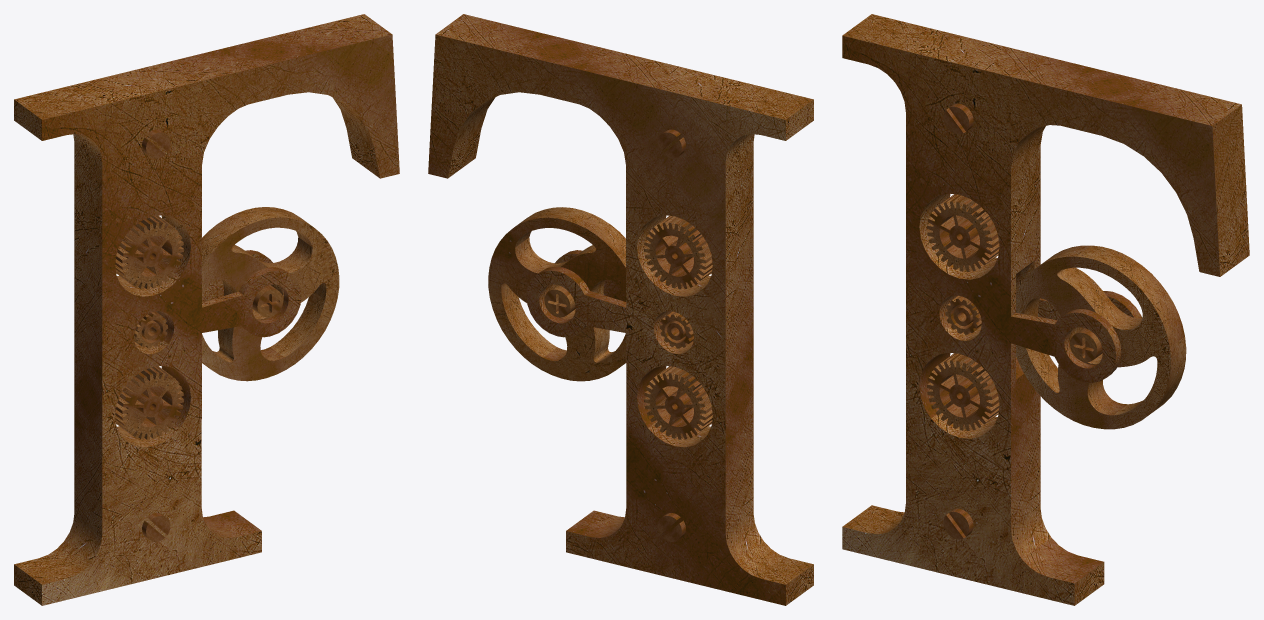
3 renders of one model, left to right at view 1: azimuth 30°, elevation 25°; view 2: azimuth 150°, elevation 25°; view 3: azimuth 330°, elevation 25°, orthographic. The views are drawn at different scales.
Parts seen in each view (by area): view 1: F, Cogwheel_411, Cogwheel_322, Cogwheel_324, Cogwheel_319, Screw_854, Screw_845, Screw_851; view 2: F, Cogwheel_411, Cogwheel_322, Cogwheel_324, Cogwheel_319, Screw_854, Screw_845, Screw_851; view 3: F, Cogwheel_411, Cogwheel_324, Cogwheel_322, Cogwheel_319, Screw_854, Screw_845, Screw_851.
Boxes of the visible parts, <box> form: F: <box>14,14,399,605</box>; Cogwheel_411: <box>202,207,339,381</box>; Cogwheel_322: <box>115,366,183,439</box>; Cogwheel_324: <box>115,215,183,289</box>; Cogwheel_319: <box>134,311,167,348</box>; Screw_854: <box>252,285,283,317</box>; Screw_845: <box>142,129,170,158</box>; Screw_851: <box>142,513,170,541</box>; F: <box>428,14,813,605</box>; Cogwheel_411: <box>488,207,626,381</box>; Cogwheel_322: <box>644,366,712,439</box>; Cogwheel_324: <box>644,215,712,289</box>; Cogwheel_319: <box>659,311,693,348</box>; Screw_854: <box>544,285,575,317</box>; Screw_845: <box>657,129,685,158</box>; Screw_851: <box>657,513,685,541</box>; F: <box>842,14,1249,605</box>; Cogwheel_411: <box>1016,245,1186,429</box>; Cogwheel_324: <box>927,194,999,271</box>; Cogwheel_322: <box>927,353,999,430</box>; Cogwheel_319: <box>945,295,981,334</box>; Screw_854: <box>1070,328,1102,362</box>; Screw_845: <box>943,103,973,134</box>; Screw_851: <box>943,508,973,539</box>.
Bounding box in the file's own units: 73.72 × 95.73 × 12.89.
1 material, 1 textured.
